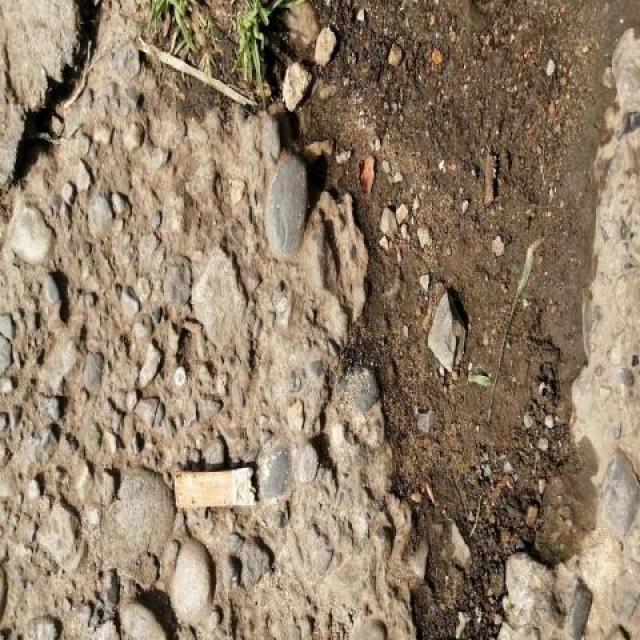non-organic waste: (169, 463, 264, 514)
